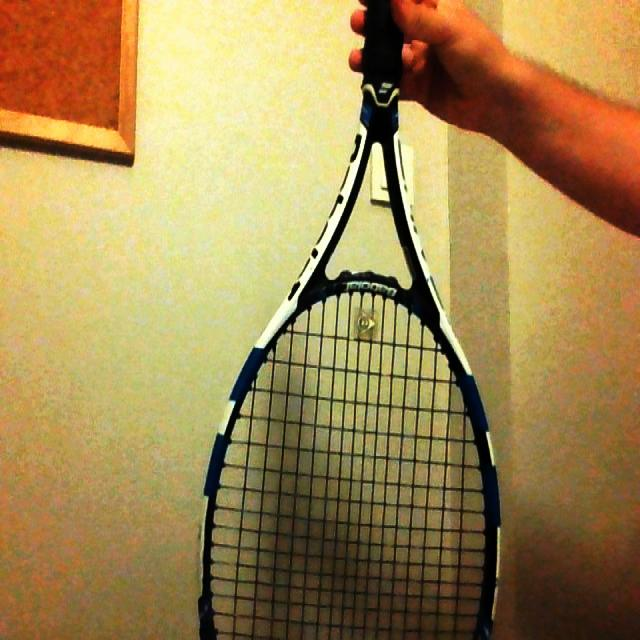TennisRacket: (196, 0, 496, 639)
